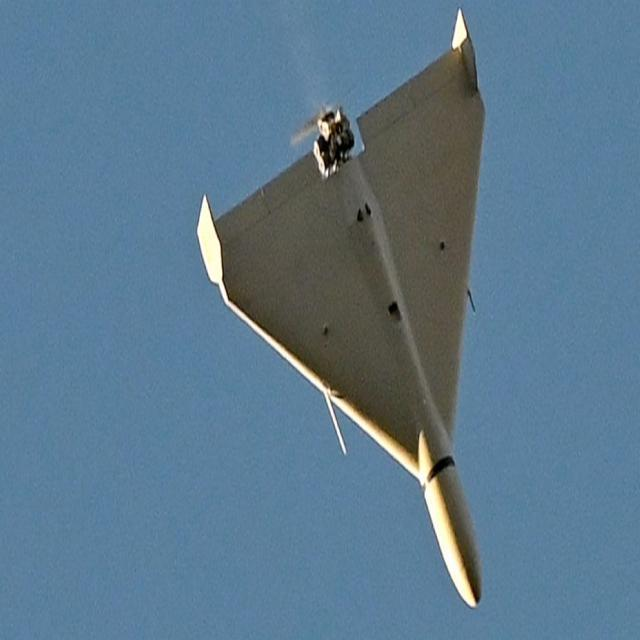iha: (184, 3, 541, 616)
